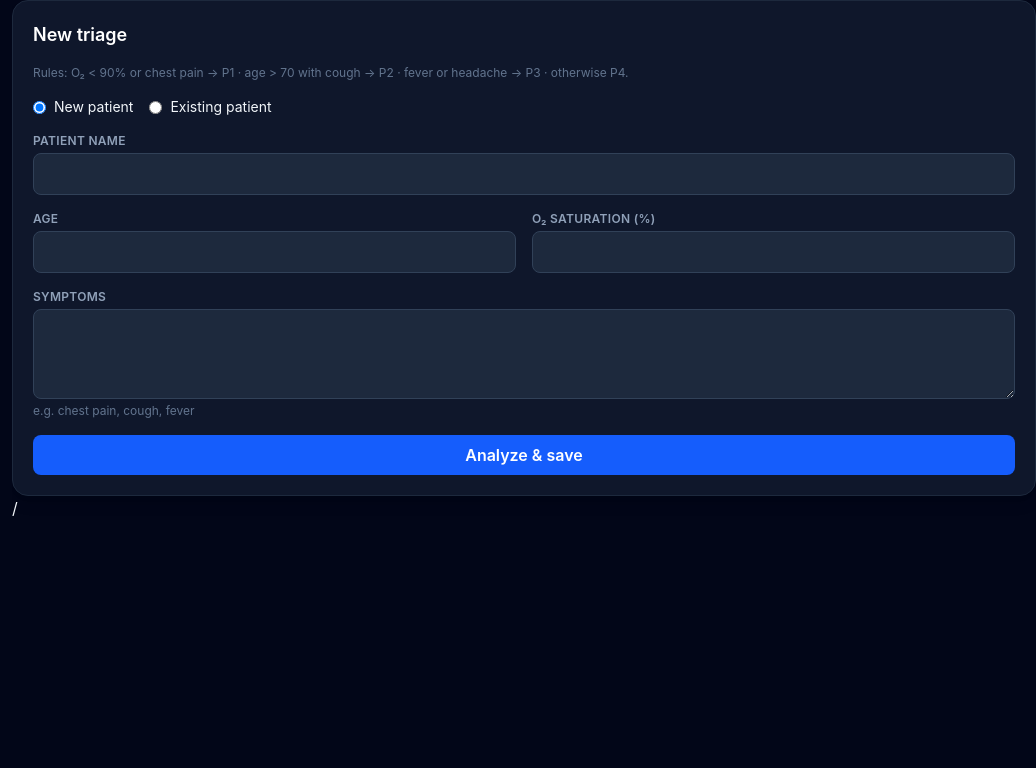
Test: TriageForm › submits a new patient's vitals and shows the CDSS result
Type "Maria Gomez" into the field labelled "Patient name" at (524, 174), box [33,153,1015,195]
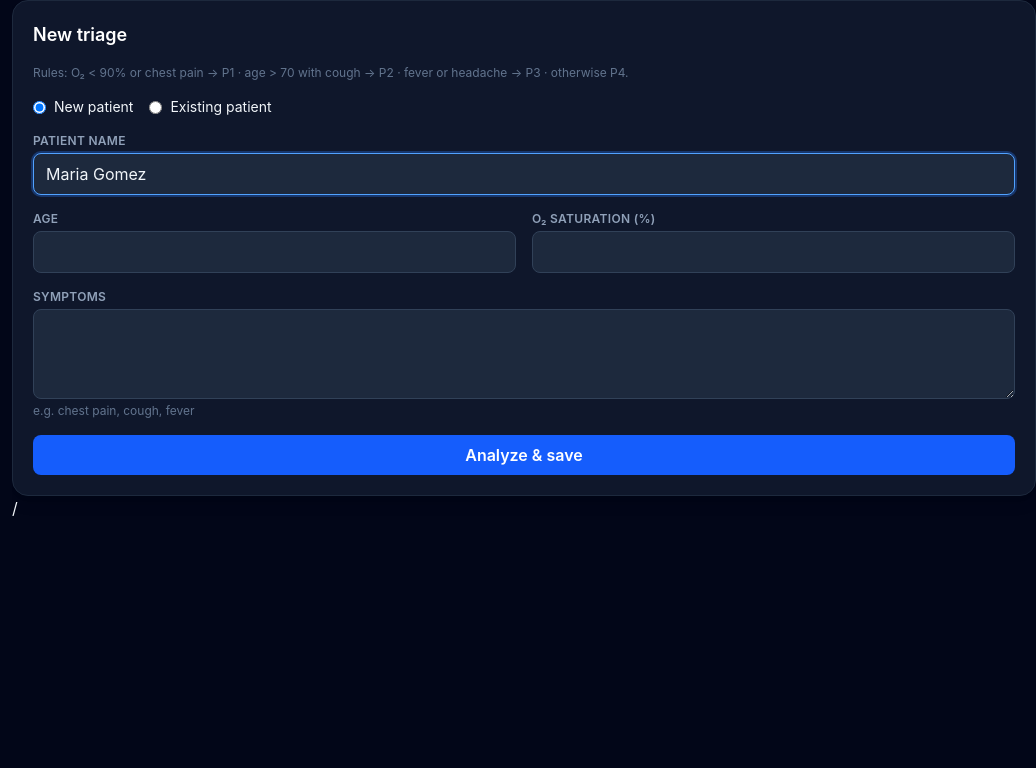
Type "76" into the number field labelled "Age" at (274, 252), box [33,231,516,273]
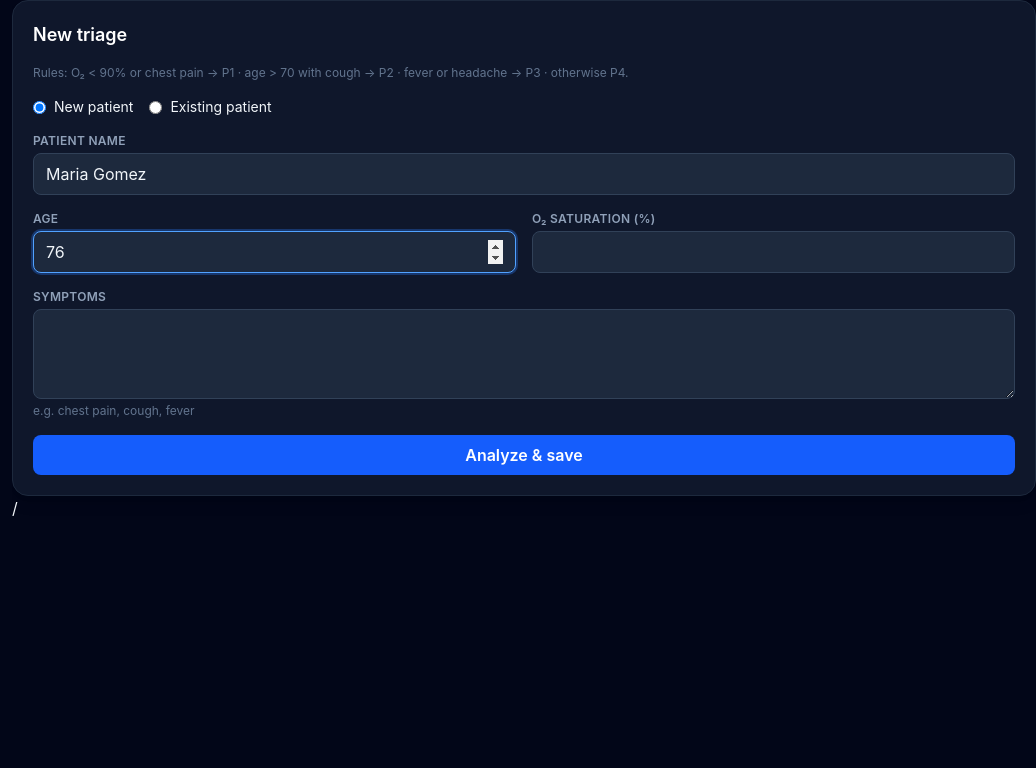
Type "94" into the number field labelled "O₂ saturation (%)" at (774, 252), box [532,231,1015,273]
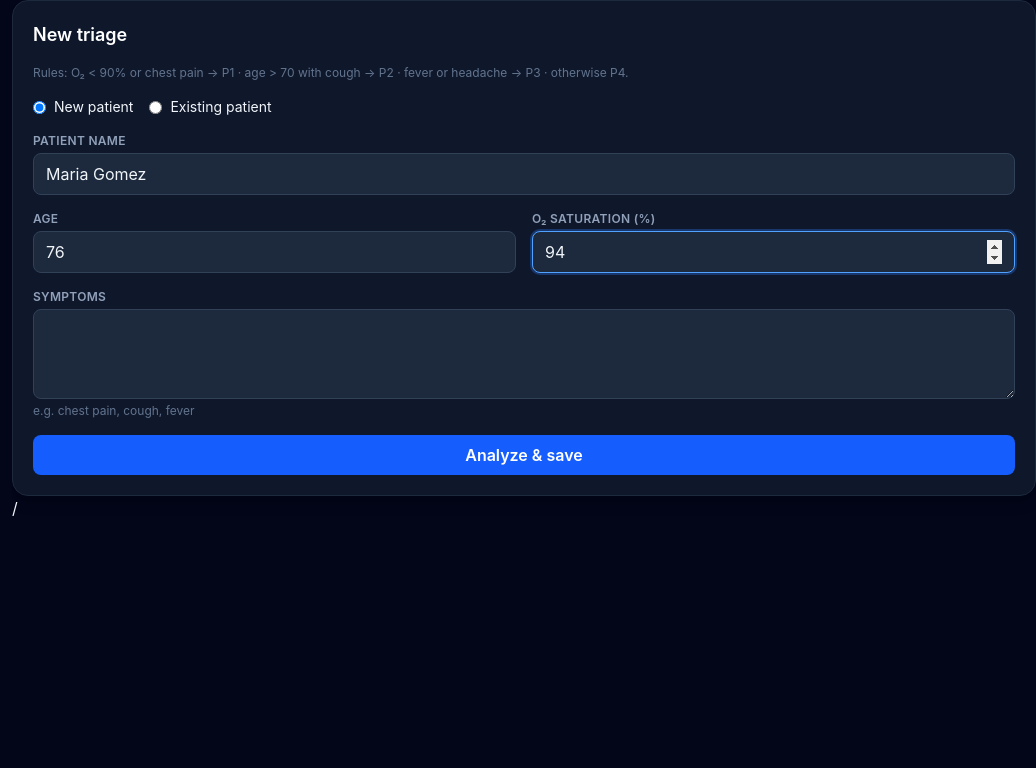
Type "Persistent cough" into the text box labelled "Symptoms" at (524, 354), box [33,309,1015,399]
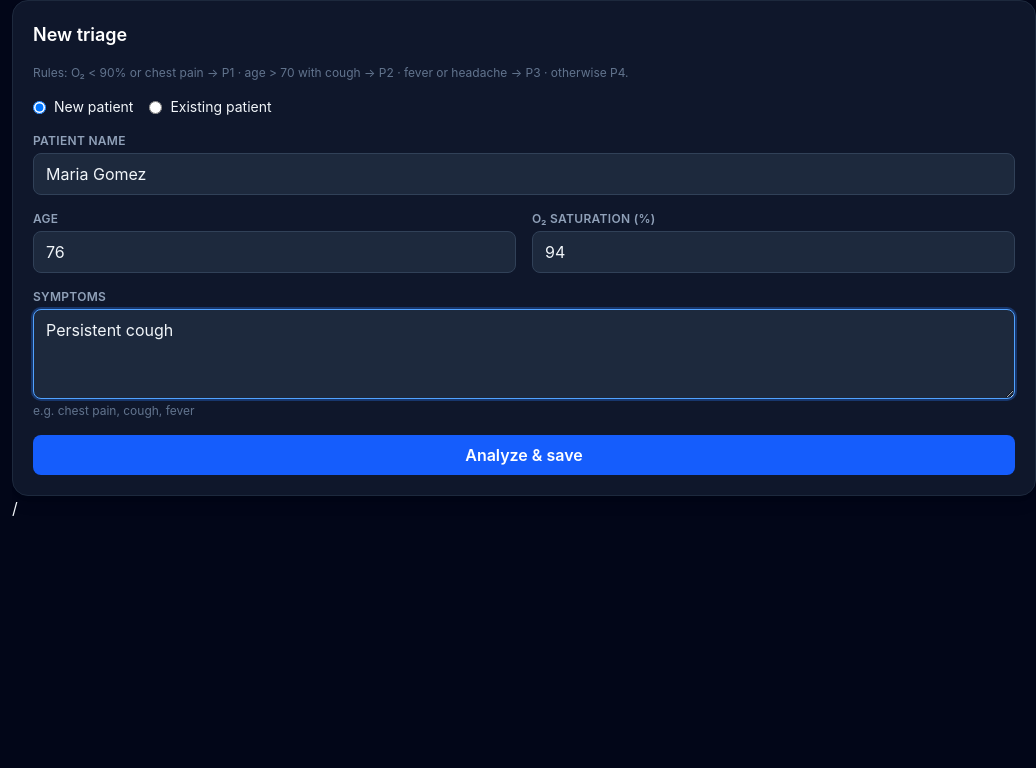
Click the button "Analyze & save" at (524, 455), box [33,435,1015,475]
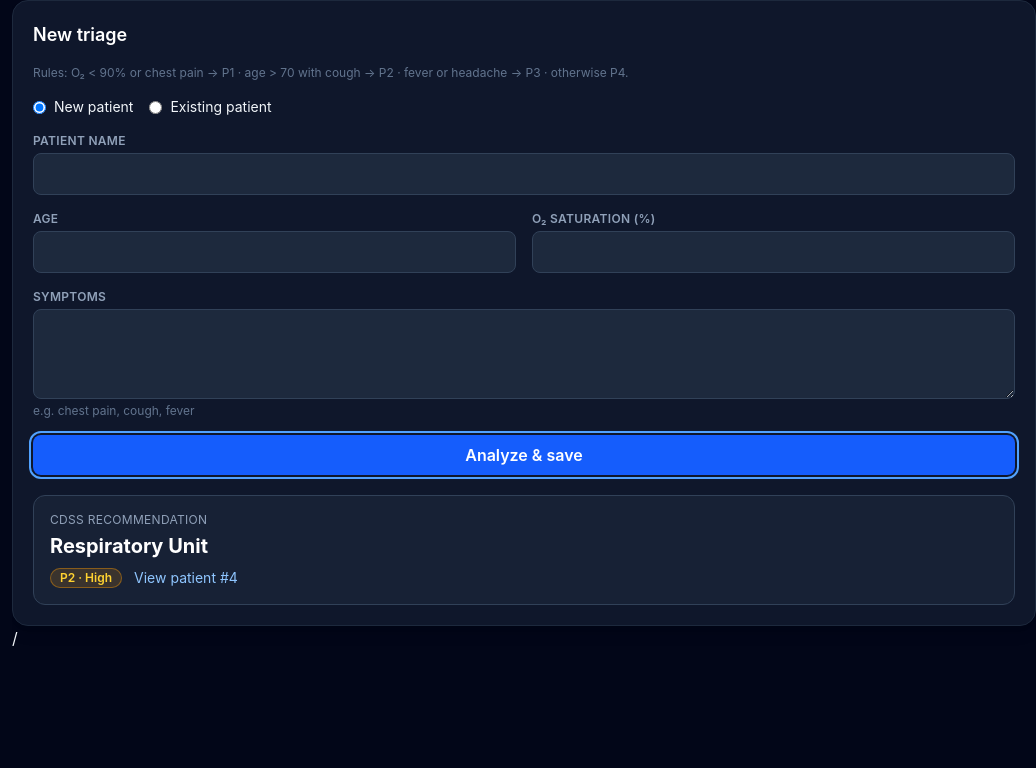
Result: the message shows "Respiratory Unit" at [50,534,208,558]
Result: the message shows "P2 · High" at [33,495,1015,605]
